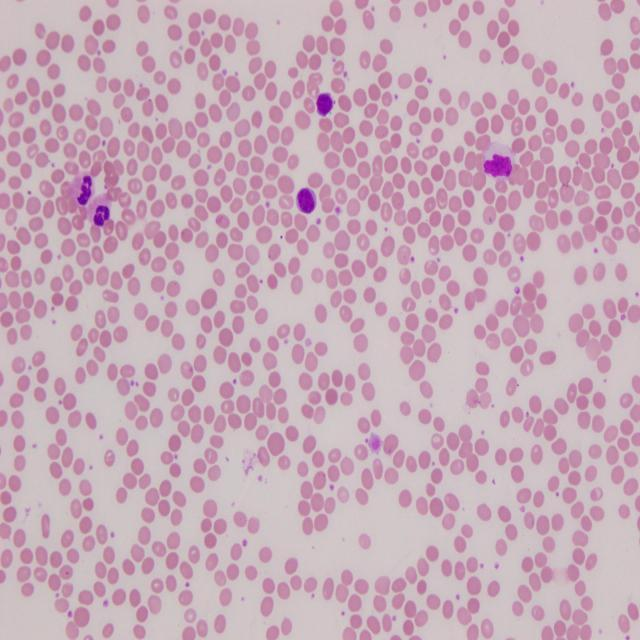cell: (86, 193, 111, 225), (70, 173, 92, 205), (316, 93, 334, 117)
